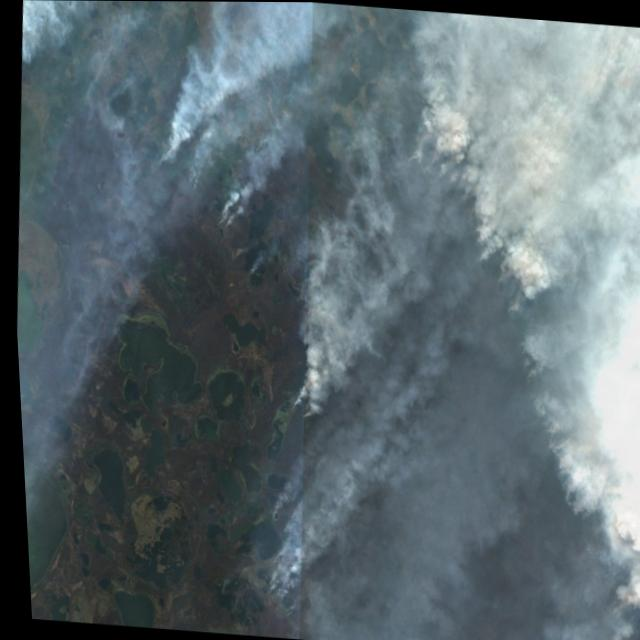fire: (347, 6, 640, 640), (131, 50, 266, 241), (246, 471, 322, 621), (269, 315, 361, 432)
